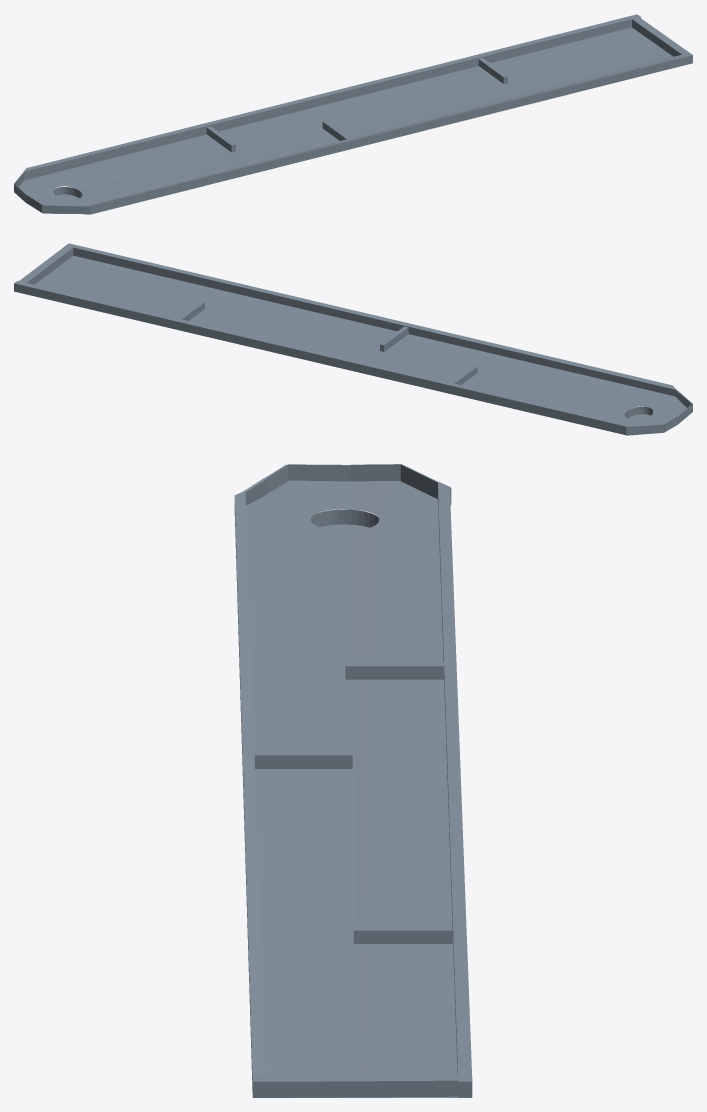
Rendered from golfvr-piste1.glb.
3 renders of one model, top to bottom at view 1: azimuth 30°, elevation 25°; view 2: azimuth 150°, elevation 25°; view 3: azimuth 270°, elevation 25°, orthographic. The views are drawn at different scales.
Visible parts, largest first — view 1: Plane, Cube.002, Cube; view 2: Plane, Cylinder, Cube.001; view 3: Plane, Cube.002, Cube, Cube.001, Cylinder, Plane.001.
Boxes of the visible parts, x1,y1,x2,y2 form: Plane: [14, 14, 692, 214]; Cube.002: [478, 58, 507, 83]; Cube: [206, 126, 235, 152]; Plane: [14, 243, 692, 435]; Cylinder: [624, 406, 652, 420]; Cube.001: [380, 326, 408, 351]; Plane: [234, 464, 472, 1097]; Cube.002: [353, 926, 452, 943]; Cube: [345, 662, 443, 679]; Cube.001: [254, 751, 352, 768]; Cylinder: [311, 509, 379, 531]; Plane.001: [334, 1036, 384, 1057].
Bounding box in the file's own units: 4 × 0.1054 × 0.65.
